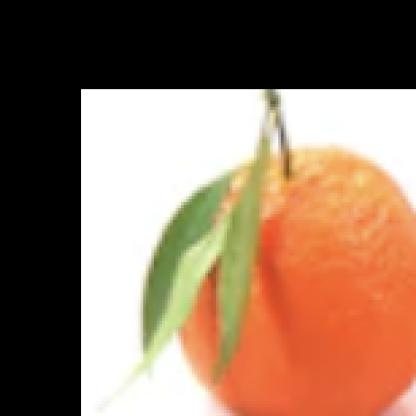fresh: (160, 137, 416, 416)
